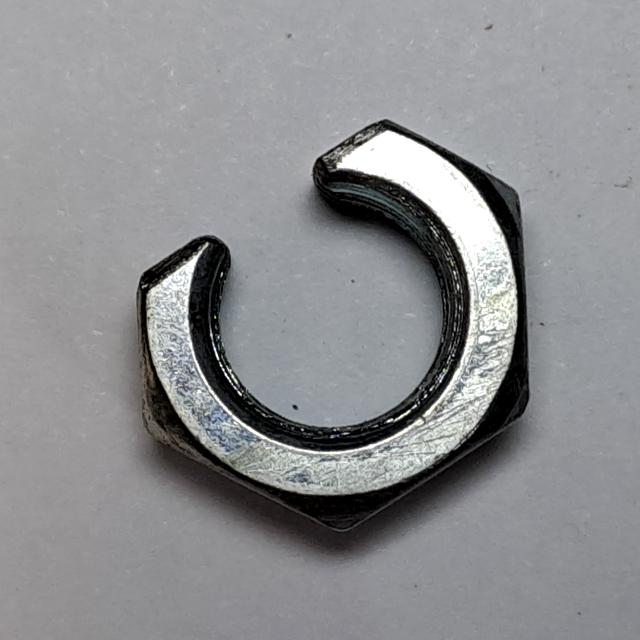Fracture: (126, 111, 555, 553)
